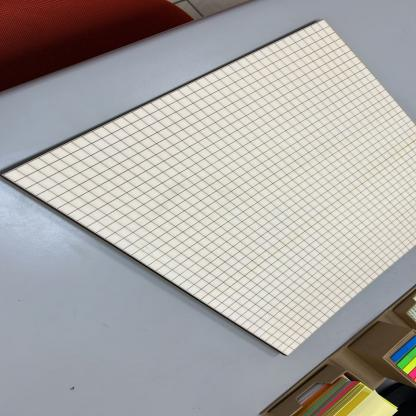grid: (0, 14, 416, 362)
